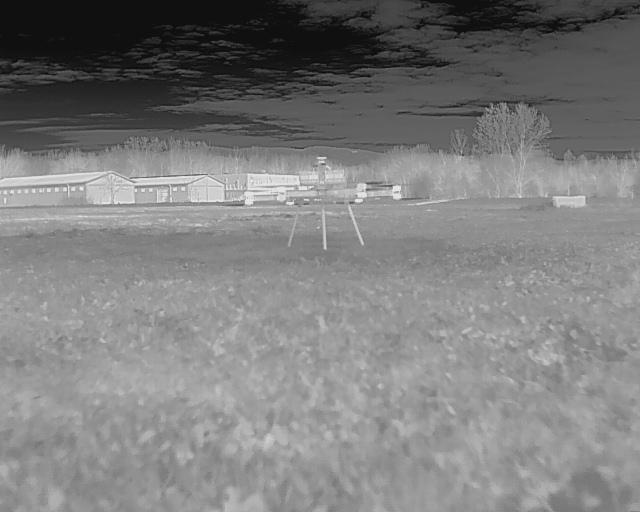drone: (211, 158, 424, 256)
